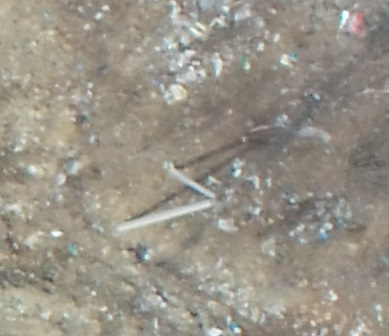opora: (114, 155, 232, 232)
